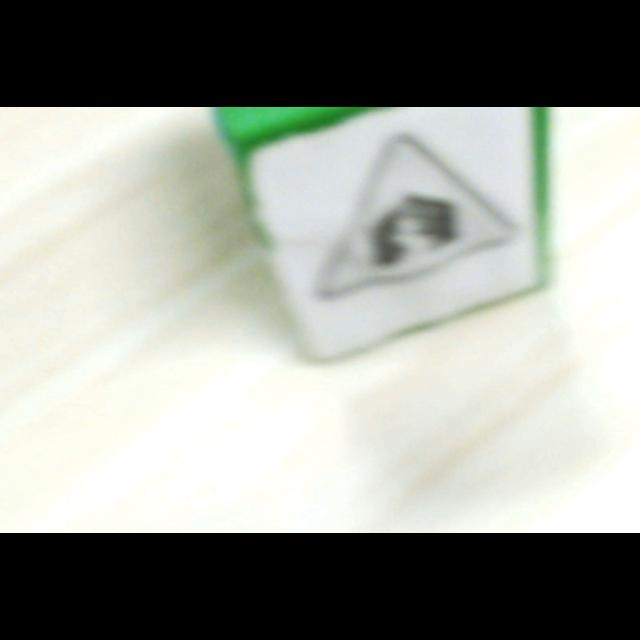Earthquake: (318, 134, 512, 297)
